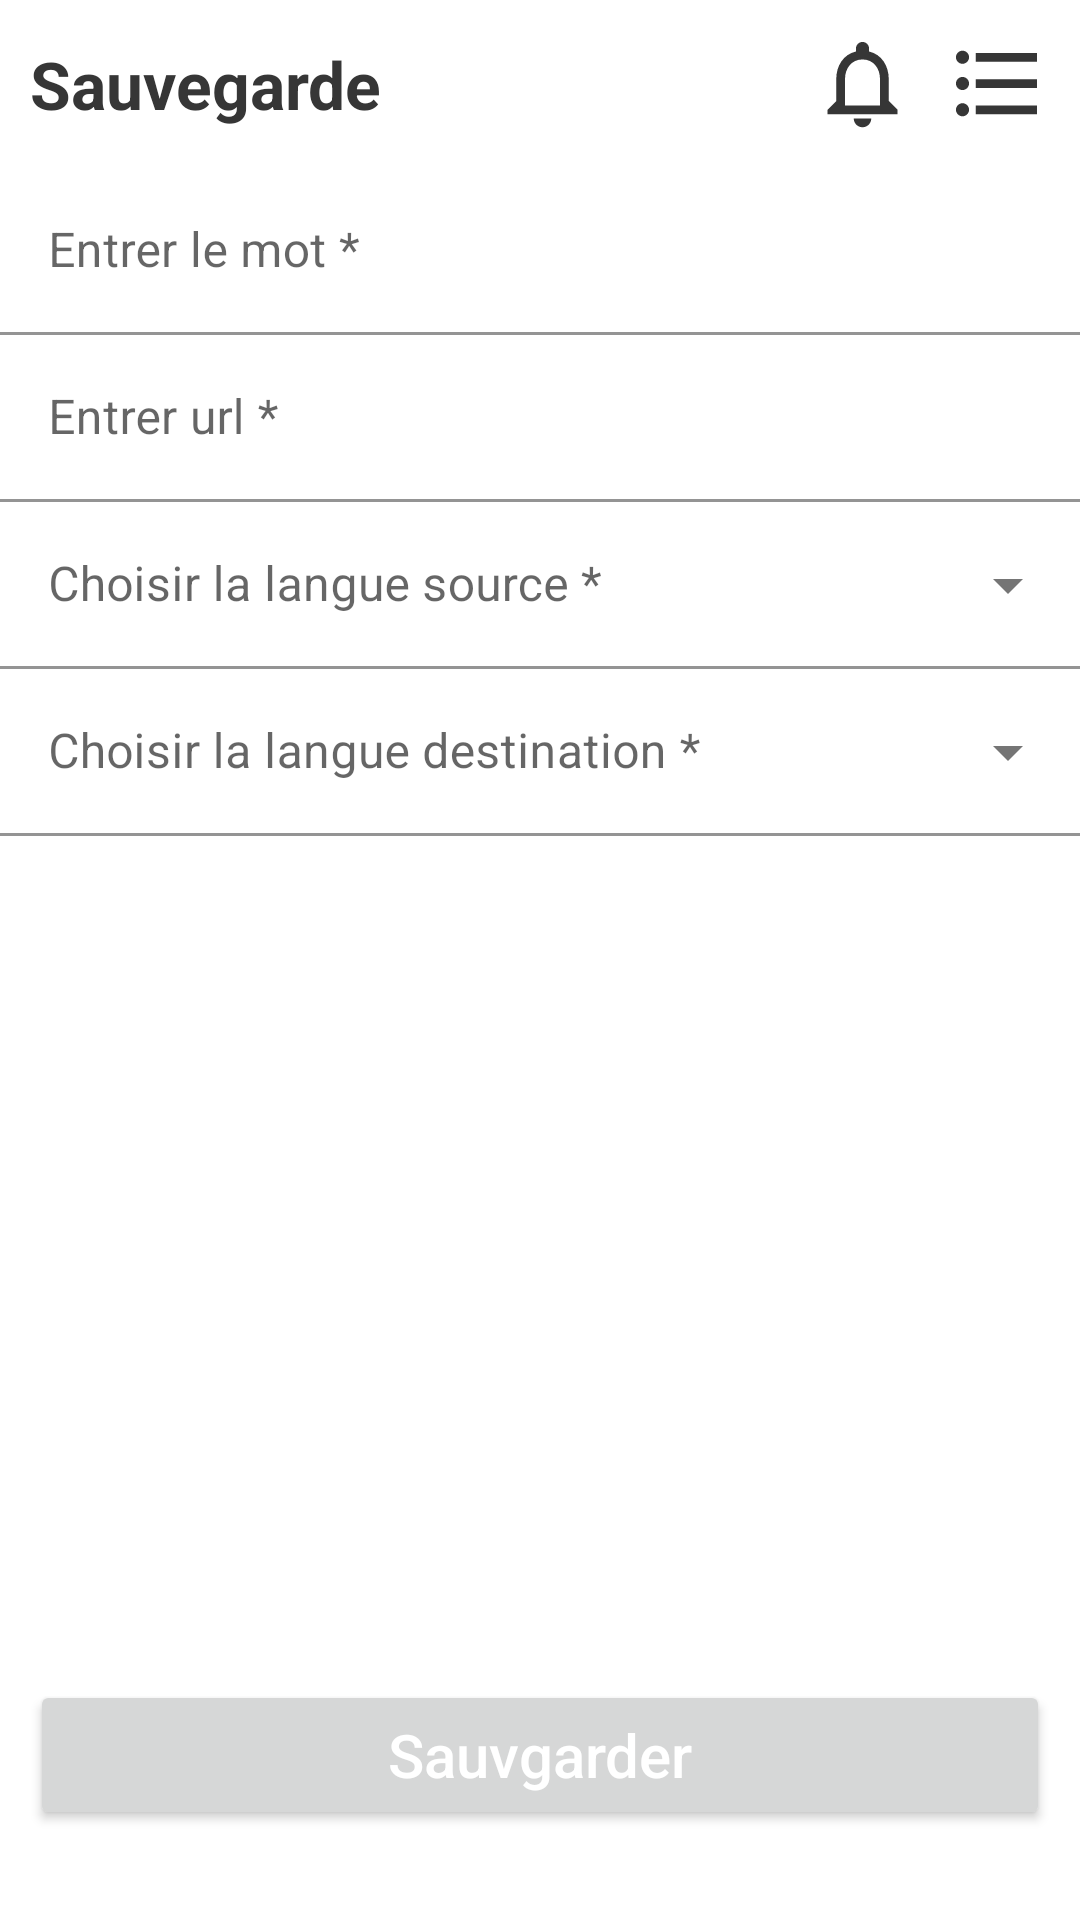

Icons on this 1080w x 1920h Android screen, each with the point to tap as [x,y]:
format list bulleted: [996,83]
notifications none: [862,85]
